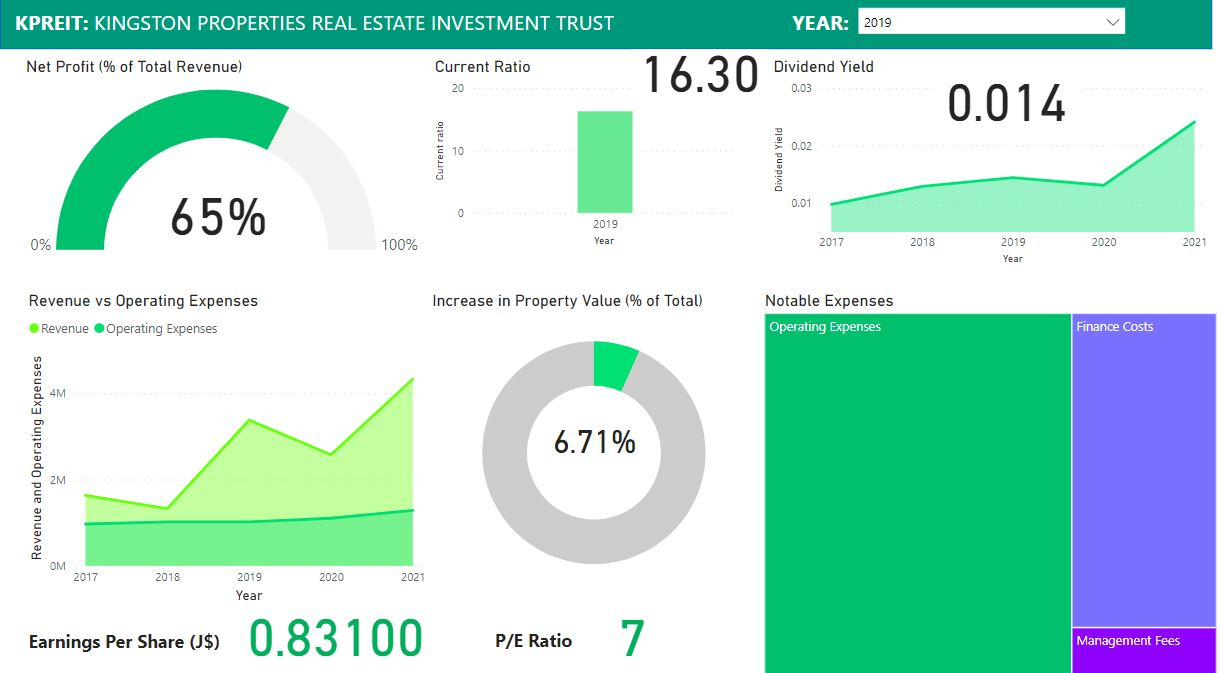

This screenshot's page, from the dashboard's own definition file:
{"tool":"powerbi","page":{"name":"Page 1","canvas":[1280,720],"ordinal":0},"visuals":[{"type":"shape","box":[0,0,1270.4,53.6],"z":0},{"type":"textbox","box":[11,5.5,723.8,43.9],"z":1000},{"type":"textbox","box":[825.4,5.5,127.7,41.2],"z":2000},{"type":"gauge","title":"Net Profit (% of Total Revenue)","fields":{"Y":["Avg(Sheet1.Net Profit/Total Revenue)"],"MinValue":["Sheet1.min_np/tr"],"MaxValue":["Sheet1.max_np/tr"]},"box":[22,61.8,425.8,222.5],"z":3000},{"type":"areaChart","title":"Dividend Yield","fields":{"Category":["Sheet1 (2).Year","Sheet1 (2).Dividend Yield"],"Y":["Sum(Sheet1 (2).Dividend Yield)"]},"box":[806.2,61.8,464.2,222.5],"z":4000},{"type":"clusteredColumnChart","title":"Current Ratio","fields":{"Category":["Sheet1.Year","Sheet1.Current ratio"],"Y":["Sum(Sheet1.Current ratio)"]},"box":[450.5,61.8,324.1,203.3],"z":5000},{"type":"areaChart","title":"Revenue vs Operating Expenses","fields":{"Category":["Sheet1 (2).Year"],"Y":["Sum(Sheet1 (2).Revenue)","Sum(Sheet1 (2).Operating Expenses)"]},"box":[24.7,306.3,425.8,332.4],"z":6000},{"type":"treemap","title":"Notable Expenses","fields":{"Values":["Sum(Sheet1.Management Fees)","Sum(Sheet1.Loss on disposal of furniture and equipment)","Sum(Sheet1.Investment Fee)","Sum(Sheet1.Finance Costs)","Sum(Sheet1.Operating Expenses)"]},"box":[796.6,306.3,483.4,407.9],"z":7000},{"type":"donutChart","title":"Increase in Property Value (% of Total)","fields":{"Y":["Sheet1.abs_ipv","Sheet1.Other Value"]},"box":[447.7,306.3,348.8,321.4],"z":8000},{"type":"card","fields":{"Values":["Avg(Sheet1.Dividend Yield)"]},"box":[976.5,85.2,157.9,57.7],"z":9000},{"type":"card","fields":{"Values":["Avg(Sheet1.Current ratio)"]},"box":[662,53.6,144.2,60.4],"z":10000},{"type":"slicer","fields":{"Values":["Sheet1.Year"]},"box":[890,0,299.4,53.6],"z":11000},{"type":"card","fields":{"Values":["Sheet1.np/tr"]},"box":[142.8,201.9,171.7,63.2],"z":12000},{"type":"textbox","box":[24.7,656.5,232.1,50.8],"z":13000},{"type":"card","fields":{"Values":["Sum(Sheet1.Earnings per stck unit (adj.) (adj.))"]},"box":[229.4,640,245.8,67.3],"z":14000},{"type":"textbox","box":[513.6,655.1,108.5,33],"z":15000},{"type":"card","fields":{"Values":["Sheet1.P/E Ratio"]},"box":[601.5,641.4,122.2,65.9],"z":16000},{"type":"card","fields":{"Values":["Sheet1.ipv"]},"box":[563.1,446.4,119.5,52.2],"z":17000}]}

Visuals, with their boxes in screenshot pixels (x1, y1, x2, y2), scaled from the page's 1280x720 canvas onto the 1222x673 screenshot:
shape: pyautogui.locateOnScreen(0, 0, 1213, 50)
textbox: pyautogui.locateOnScreen(11, 5, 702, 46)
textbox: pyautogui.locateOnScreen(788, 5, 910, 44)
"Net Profit (% of Total Revenue)" gauge: pyautogui.locateOnScreen(21, 58, 428, 266)
"Dividend Yield" areaChart: pyautogui.locateOnScreen(770, 58, 1213, 266)
"Current Ratio" clusteredColumnChart: pyautogui.locateOnScreen(430, 58, 740, 248)
"Revenue vs Operating Expenses" areaChart: pyautogui.locateOnScreen(24, 286, 430, 597)
"Notable Expenses" treemap: pyautogui.locateOnScreen(761, 286, 1221, 668)
"Increase in Property Value (% of Total)" donutChart: pyautogui.locateOnScreen(427, 286, 760, 587)
card - Avg(Sheet1.Dividend Yield): pyautogui.locateOnScreen(932, 80, 1083, 134)
card - Avg(Sheet1.Current ratio): pyautogui.locateOnScreen(632, 50, 770, 107)
slicer - Sheet1.Year: pyautogui.locateOnScreen(850, 0, 1136, 50)
card - Sheet1.np/tr: pyautogui.locateOnScreen(136, 189, 300, 248)
textbox: pyautogui.locateOnScreen(24, 614, 245, 661)
card - Sum(Sheet1.Earnings per stck unit (adj.) (adj.)): pyautogui.locateOnScreen(219, 598, 454, 661)
textbox: pyautogui.locateOnScreen(490, 612, 594, 643)
card - Sheet1.P/E Ratio: pyautogui.locateOnScreen(574, 600, 691, 661)
card - Sheet1.ipv: pyautogui.locateOnScreen(538, 417, 652, 466)
